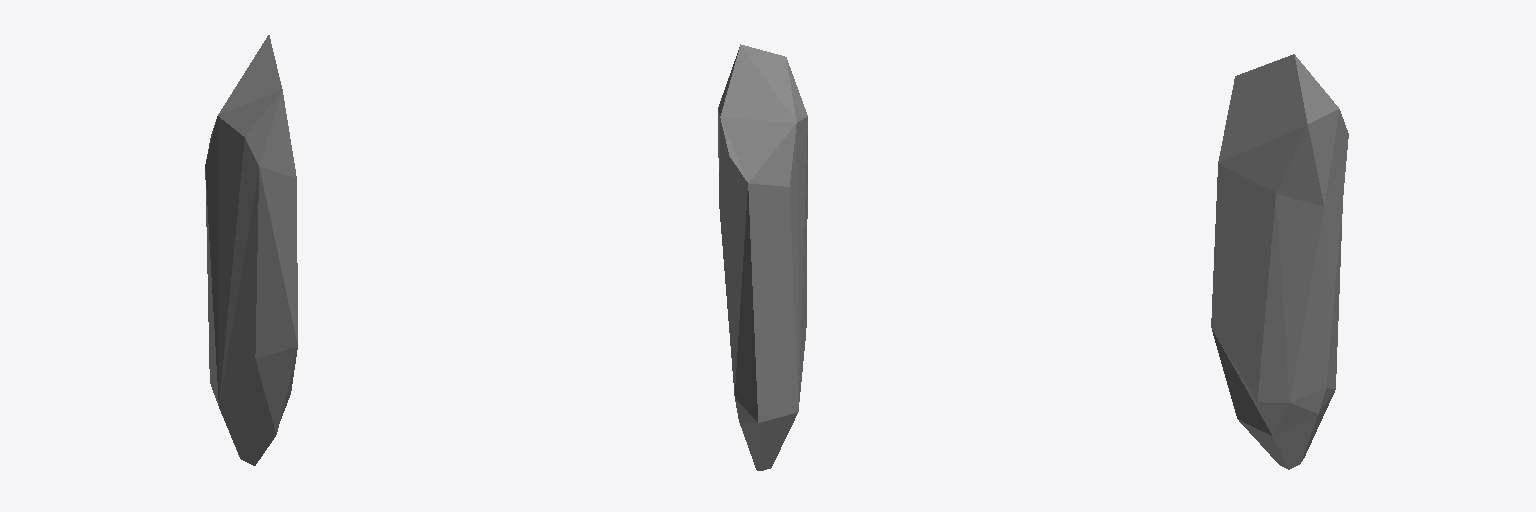
3 renders of one model, left to right at view 1: azimuth 30°, elevation 25°; view 2: azimuth 150°, elevation 25°; view 3: azimuth 270°, elevation 25°, orthographic.
Parts seen in each view (by area): view 1: mini3; view 2: mini3; view 3: mini3.
Boxes of the visible parts, box(x1,y1,x2,y2) form: mini3: box(205, 35, 297, 465); mini3: box(718, 44, 807, 470); mini3: box(1211, 54, 1348, 469).
Bounding box in the file's own units: 0.4146 × 2.32 × 0.683.